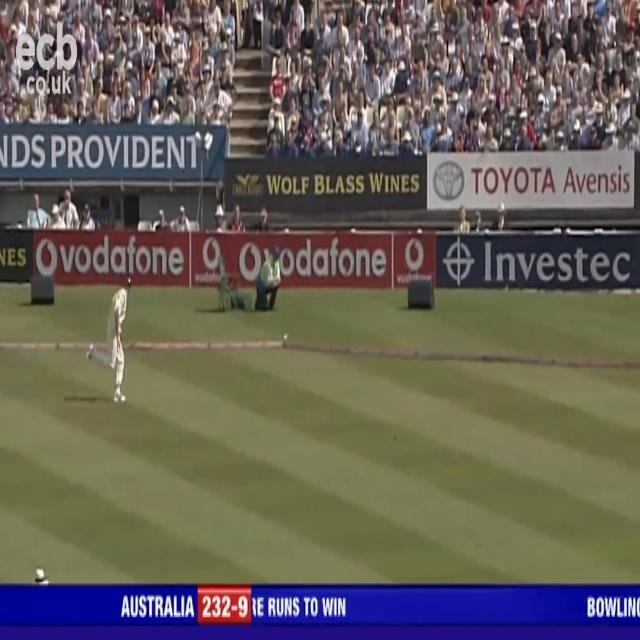ball: (393, 432, 399, 444)
